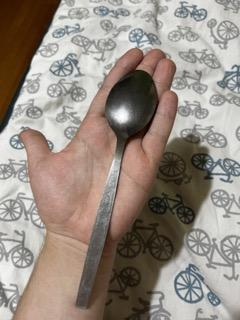spoon: (74, 68, 159, 312)
